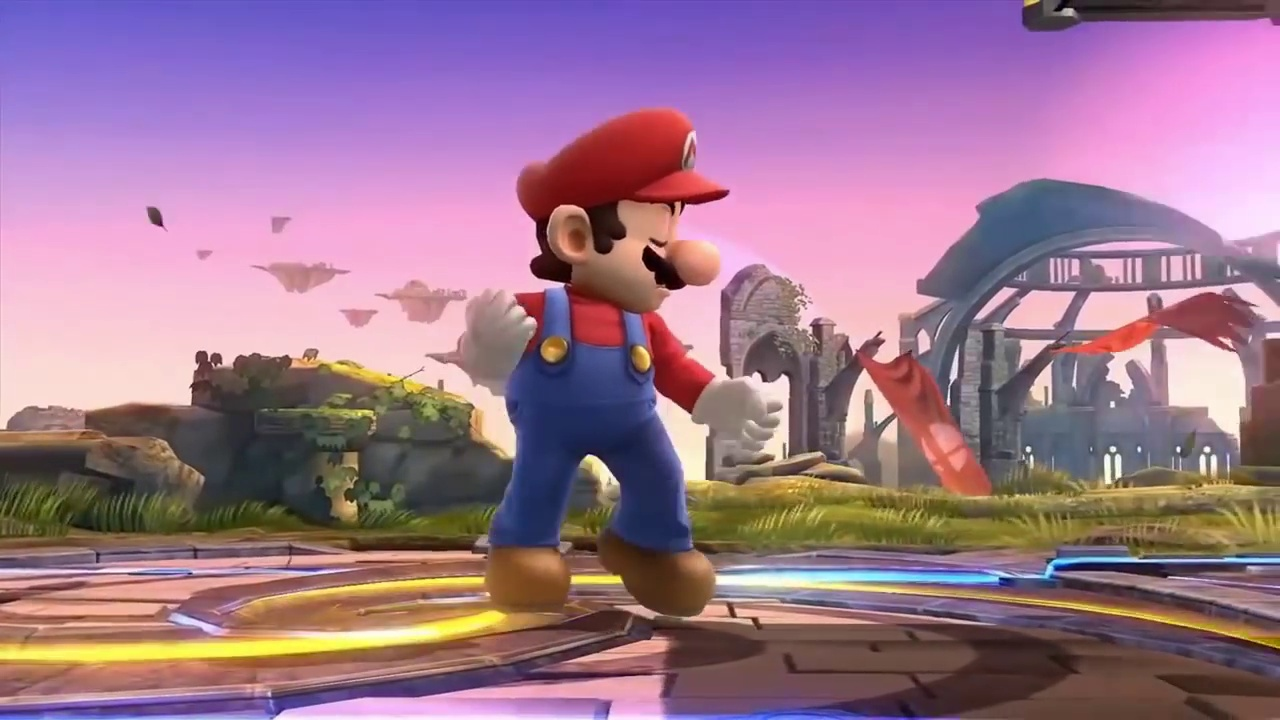Mario: (458, 104, 782, 618)
